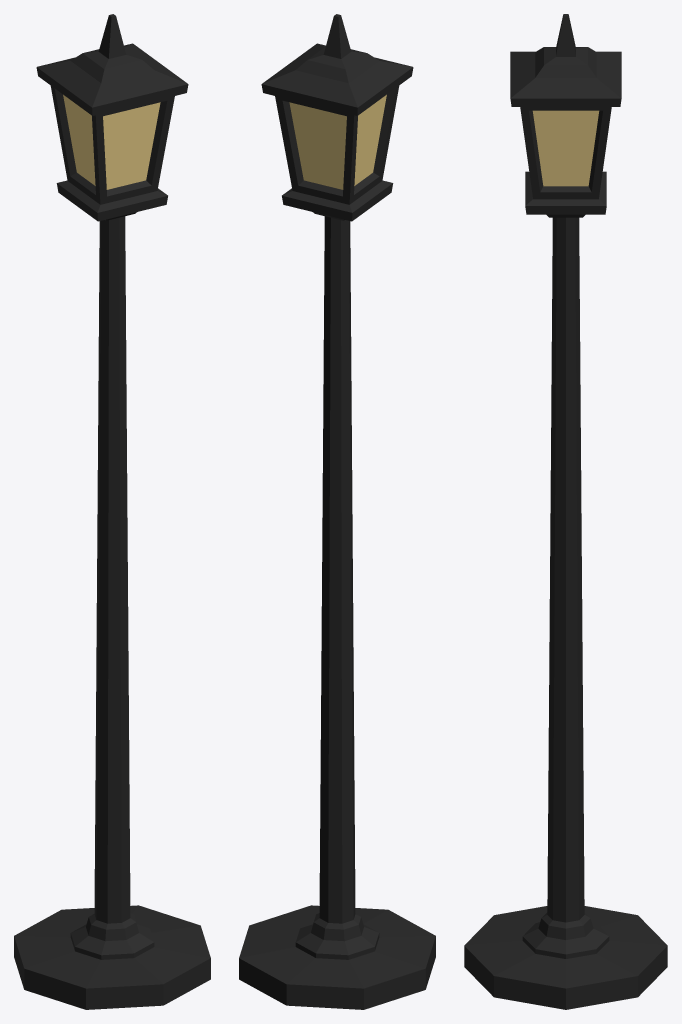
File: lamppole.fbx
3 views of the same model, side by side, from view 1: azimuth 30°, elevation 25°; view 2: azimuth 150°, elevation 25°; view 3: azimuth 270°, elevation 25° (orthographic).
Parts seen in each view (by area): view 1: classic_lamp_pole; view 2: classic_lamp_pole; view 3: classic_lamp_pole.
Boxes of the visible parts, bbox=[...] form: classic_lamp_pole: bbox=[14, 14, 210, 1009]; classic_lamp_pole: bbox=[239, 14, 435, 1009]; classic_lamp_pole: bbox=[464, 14, 667, 1009].
Size of the model in its own units: 60 by 310 by 60.
